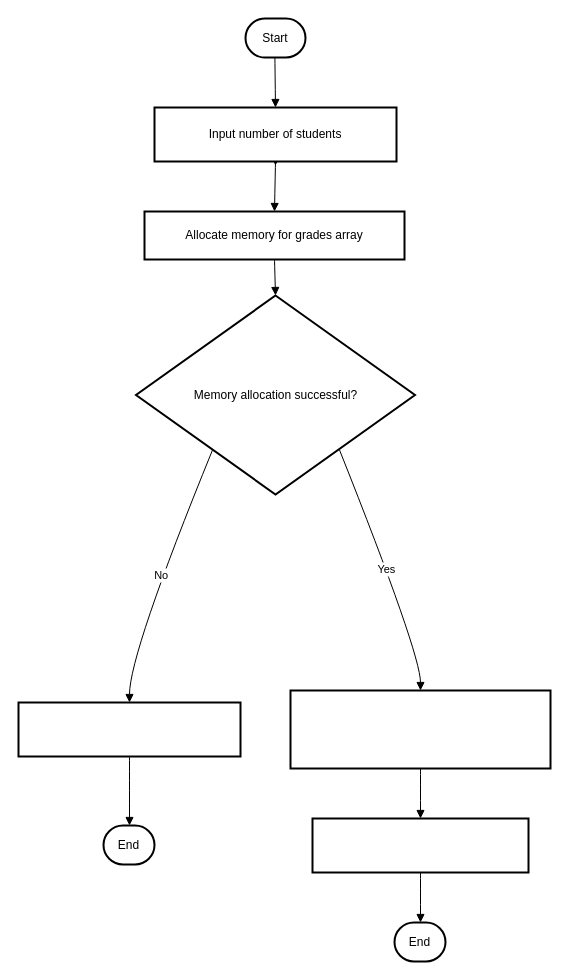
Some shapes in this 568 by 979 pixel diagram are drawn without their labels. The centre of each missing label's shape, as x and y in pixels:
"Input grades for each student (loop)" goes at (420,729).
"Print all grades (loop)" goes at (420,845).
"Print: Allocation failed" goes at (129,729).
